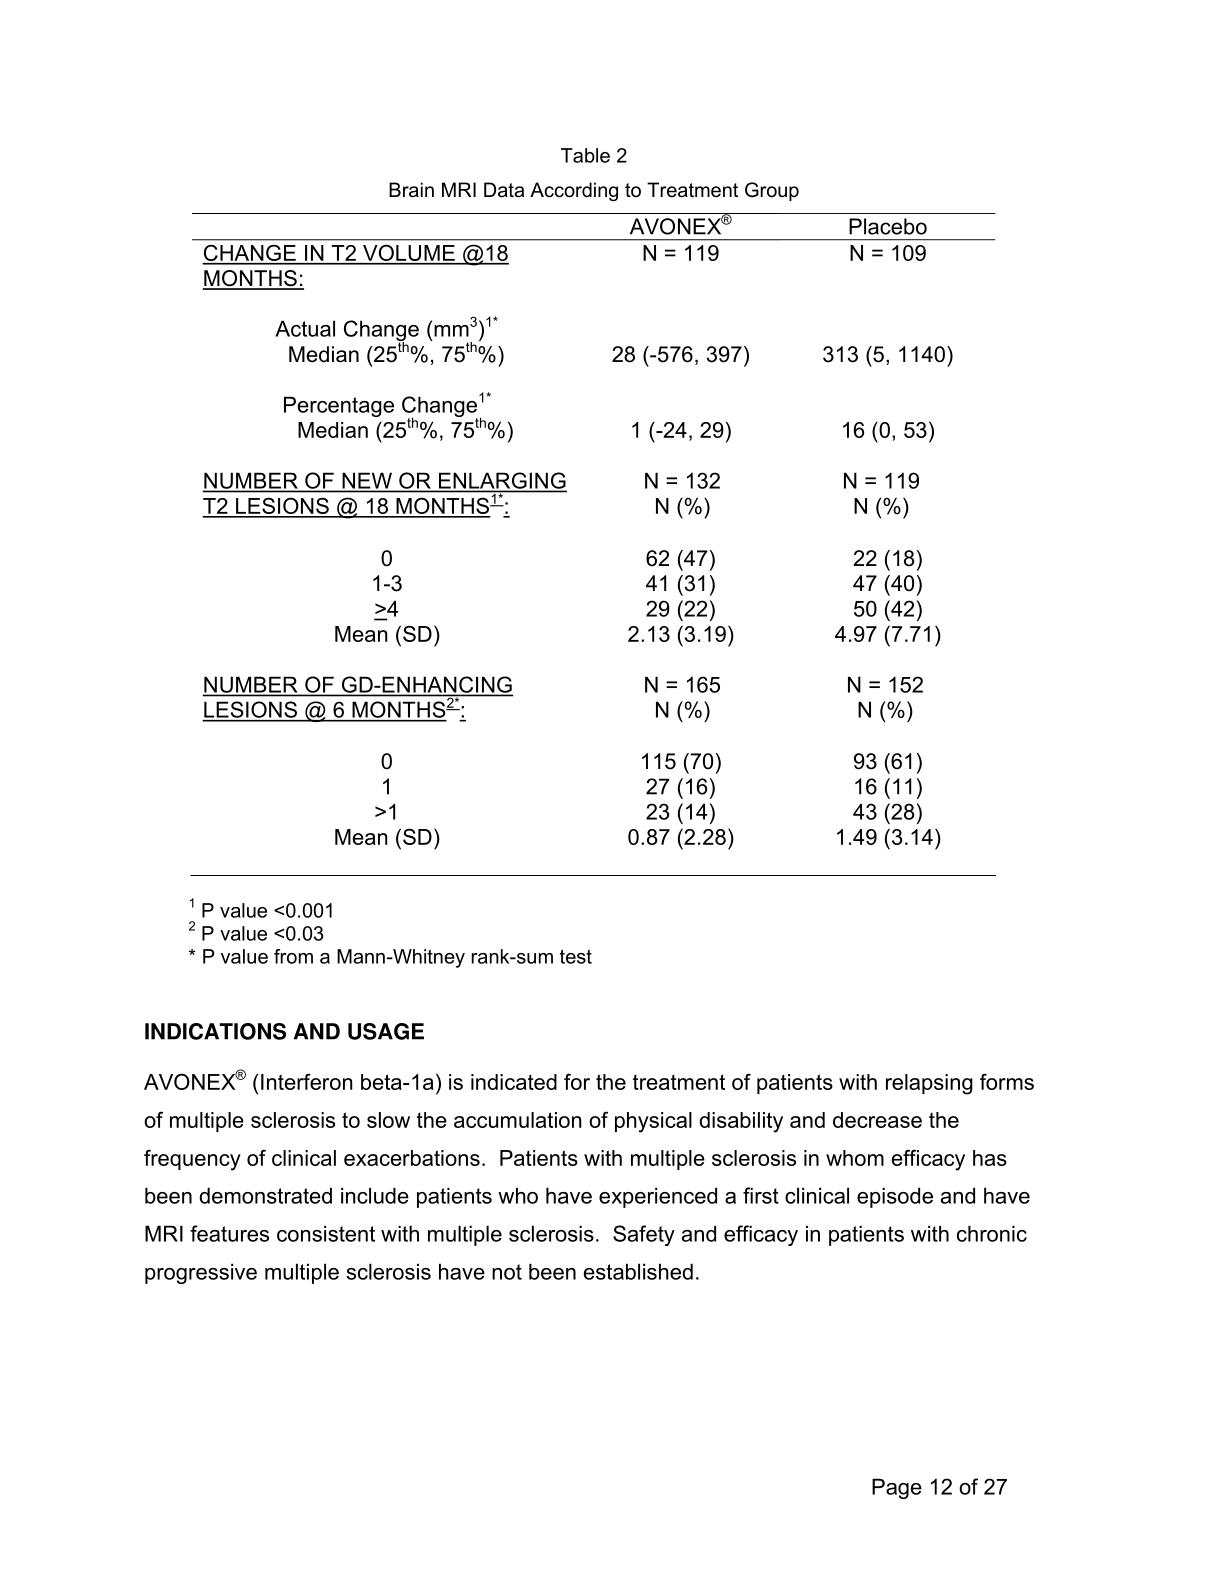partial_lined: (192, 211, 996, 877)
